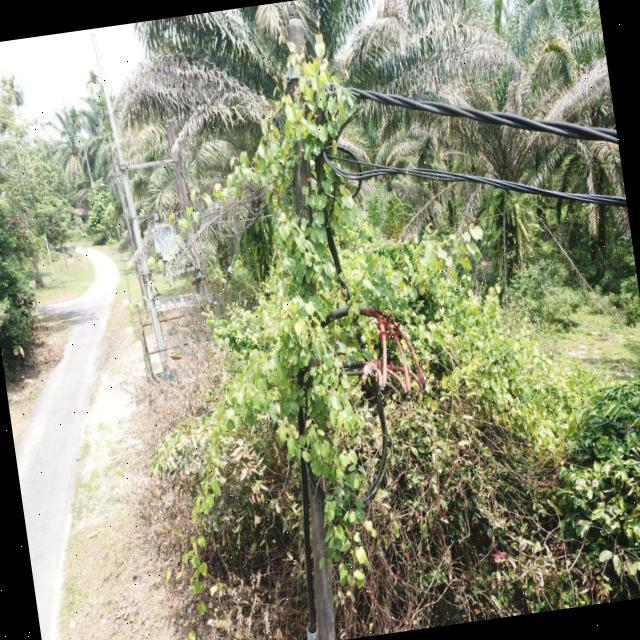critical vegetation: (177, 30, 430, 608)
